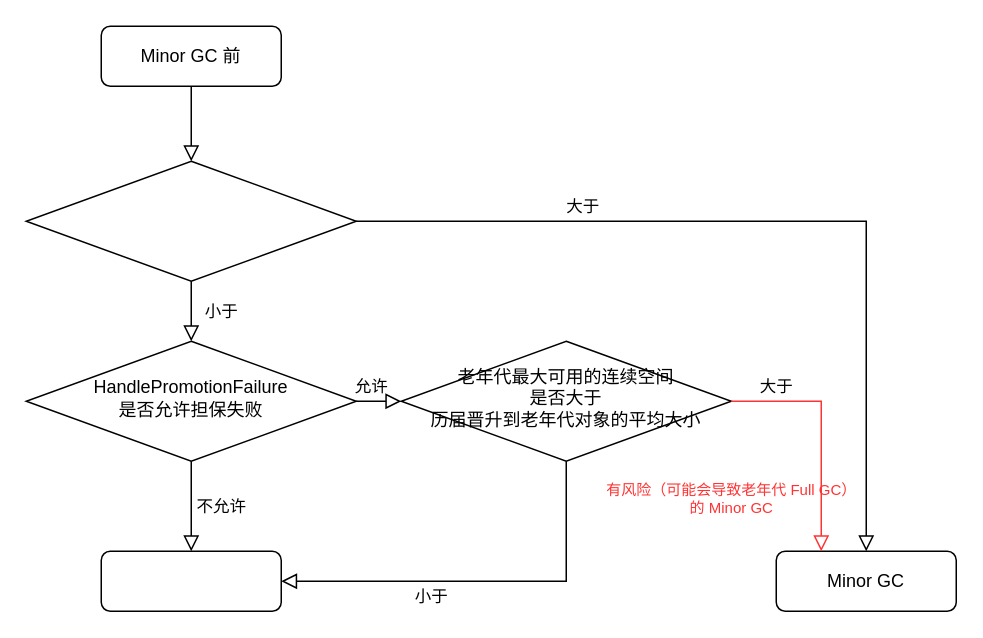
Some shapes in this 983 by 638 pixel diagram are drawn without their labels. Each missing label, with the centre of its shape:
Full GC: (x=190, y=580)
老年代最大可用的连续空间 是否大于 新时代所有对象总空间: (x=190, y=220)
